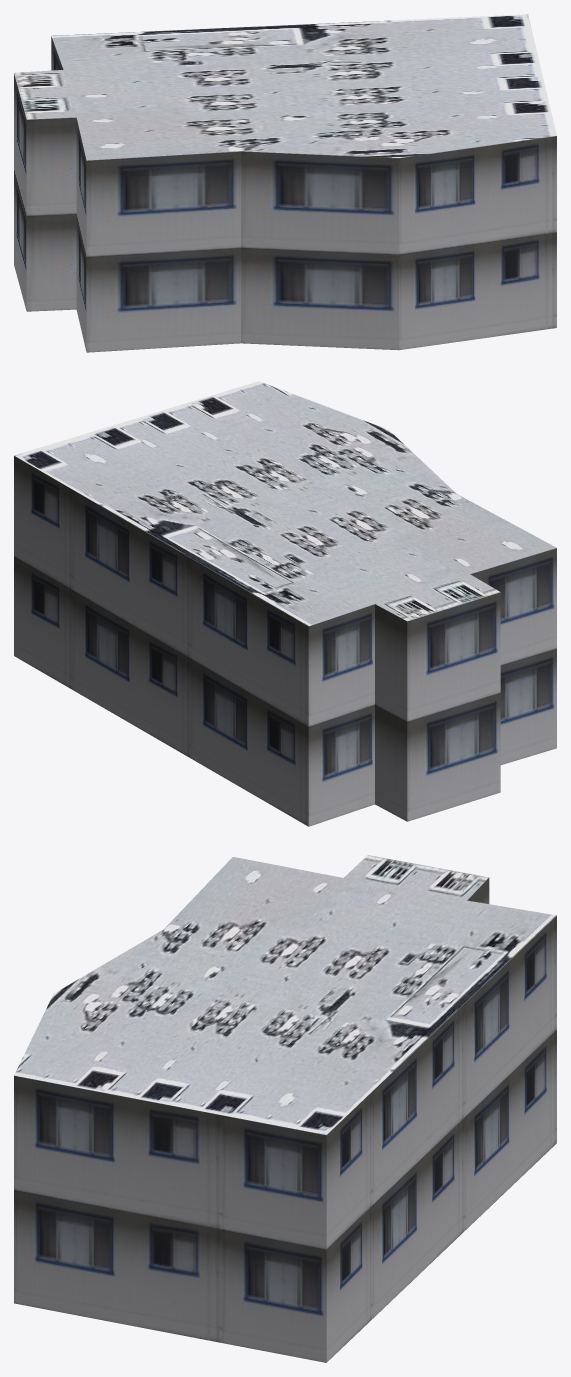
Rendered from ResTex__2475.fbx.
3 views of the same model, one above another, from view 1: azimuth 30°, elevation 25°; view 2: azimuth 150°, elevation 25°; view 3: azimuth 270°, elevation 25° (orthographic). The views are drawn at different scales.
Visible parts, largest first — view 1: CityEngineMaterial_9_m, CityEngineMaterial_2_m; view 2: CityEngineMaterial_9_m, CityEngineMaterial_2_m; view 3: CityEngineMaterial_9_m, CityEngineMaterial_2_m.
Part boxes in pixels (x1,y1,x2,y2): CityEngineMaterial_9_m: [14, 36, 556, 352]; CityEngineMaterial_2_m: [14, 14, 556, 160]; CityEngineMaterial_9_m: [14, 456, 556, 826]; CityEngineMaterial_2_m: [14, 381, 556, 626]; CityEngineMaterial_9_m: [14, 877, 556, 1362]; CityEngineMaterial_2_m: [14, 855, 556, 1134].
Size of the model in its own units: 15.82 by 6 by 12.96.
Materials: 2 (2 with a texture image).
